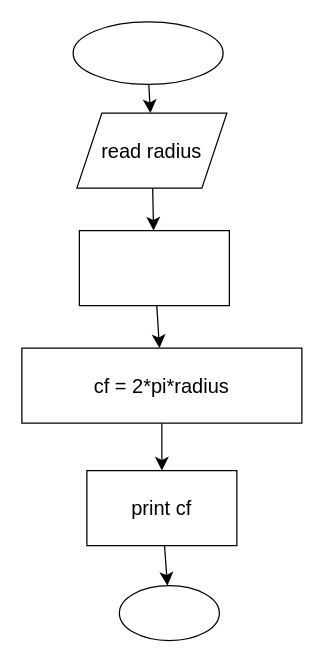
Some shapes in this 324 by 663 pixel diagram are drawn without their labels. The shapes that lost their labels are listed below. From the top down, each one's box as (x1, y1, x2, y2) in pixels, then its label:
(72, 21, 223, 84): start
(78, 229, 229, 306): let pi=3.14
